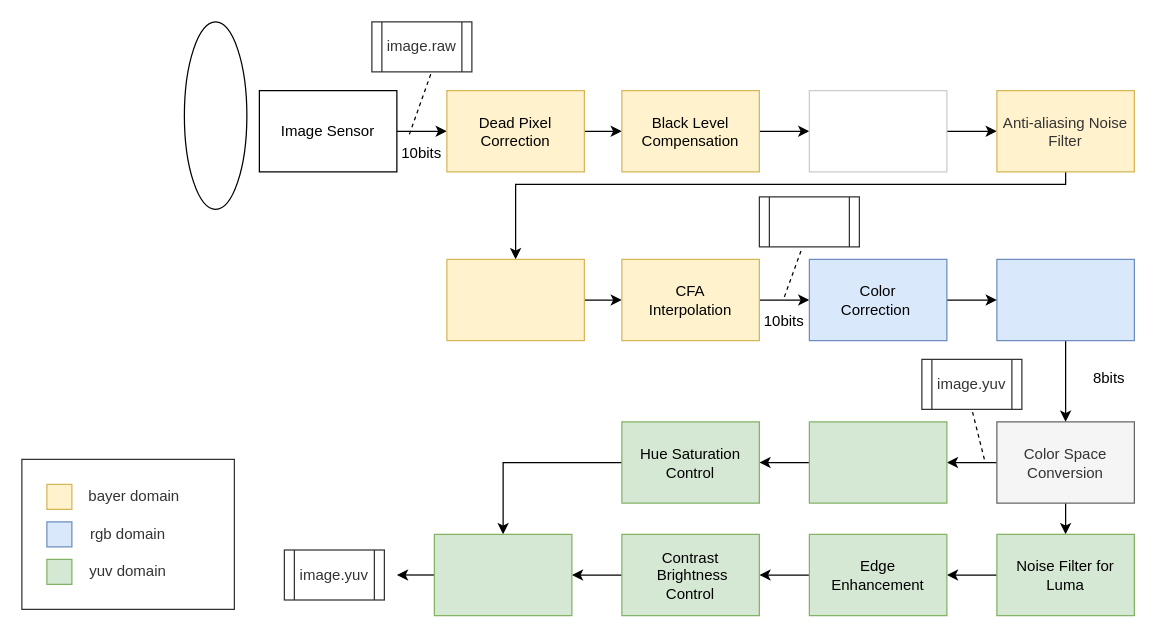
Some shapes in this 1169 by 638 pixel diagram are drawn without their labels. Here are the shapes that lost their labels. From the top down, the centre of each, then its label:
At (x=215, y=115): "Lens".
At (x=877, y=130): "Lens Shading Correction".
At (x=808, y=221): "image.rgb".
At (x=515, y=299): "AWB Gain Control".
At (x=1065, y=299): "Gamma Correction".
At (x=877, y=462): "Noise Filter for Chroma".
At (x=502, y=574): "Data Formatter".
